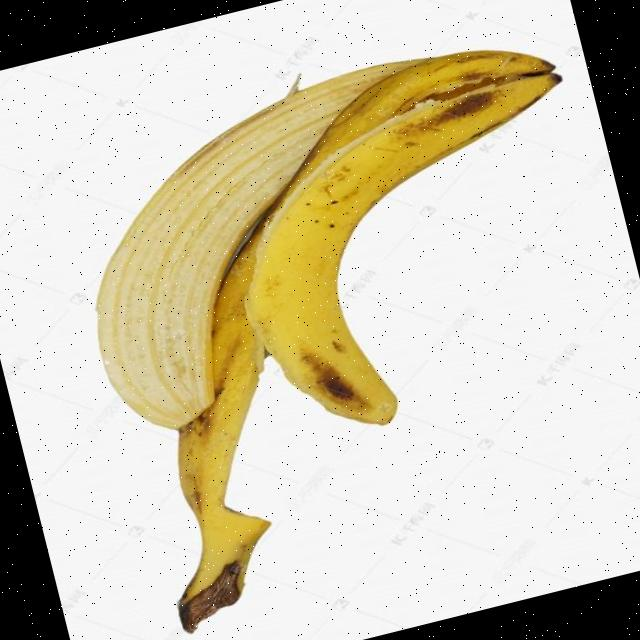banana-peel: (46, 14, 640, 636), (194, 25, 632, 451), (44, 42, 500, 444)
